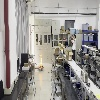fire: (39, 52, 42, 68)
